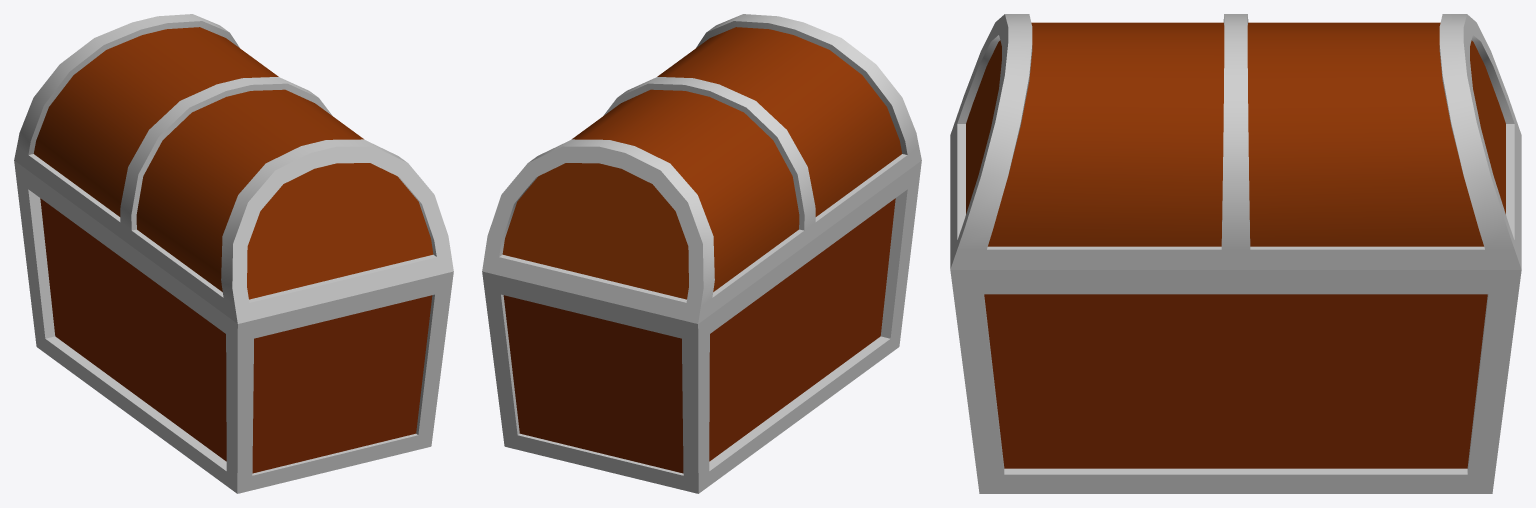
File: treasure_chest_smooth.fbx
3 views of the same model, side by side, from view 1: azimuth 30°, elevation 25°; view 2: azimuth 150°, elevation 25°; view 3: azimuth 270°, elevation 25° (orthographic). The views are drawn at different scales.
Visible parts, largest first — view 1: Cube.001, Cube; view 2: Cube.001, Cube; view 3: Cube.001, Cube.
Part boxes in pixels (bbox=[...]): Cube.001: bbox=[14, 14, 453, 323]; Cube: bbox=[14, 160, 453, 493]; Cube.001: bbox=[482, 14, 921, 323]; Cube: bbox=[482, 160, 921, 493]; Cube.001: bbox=[950, 14, 1521, 269]; Cube: bbox=[950, 270, 1521, 493].
Size of the model in its own units: 200 by 276 by 359.
